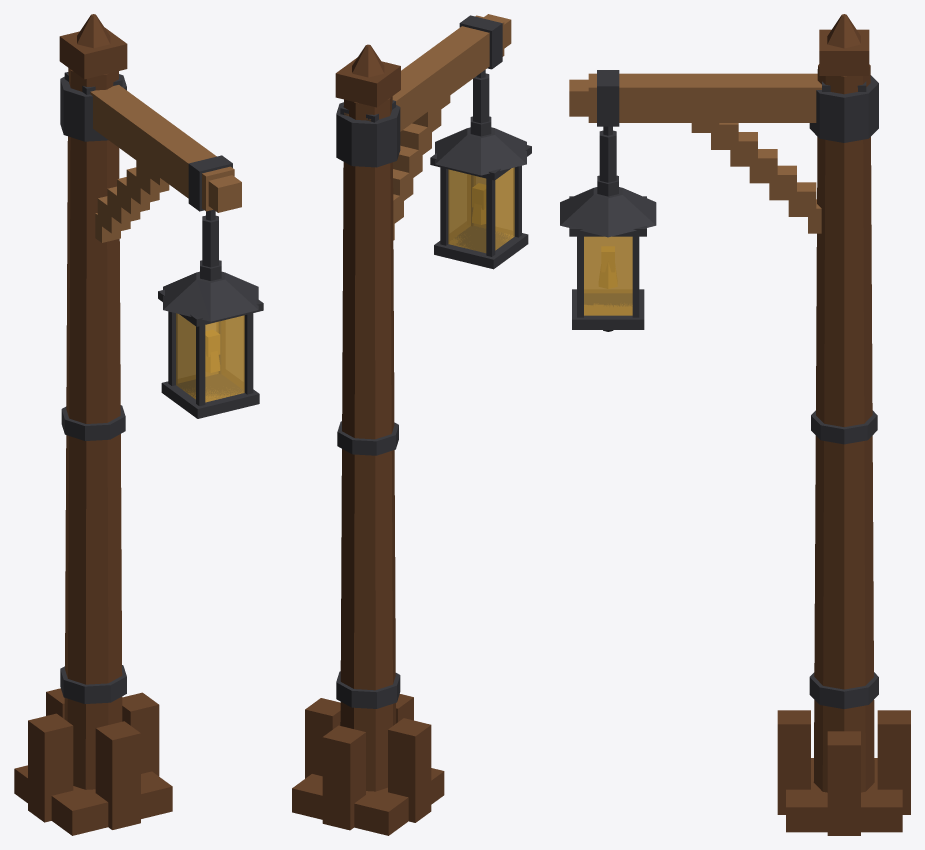
Rendered from 23_Wooden_Lantern_Post.obj.
3 renders of one model, left to right at view 1: azimuth 30°, elevation 25°; view 2: azimuth 150°, elevation 25°; view 3: azimuth 270°, elevation 25°, orthographic. The views are drawn at different scales.
Parts seen in each view (by area): view 1: 23_Wooden_Lantern_Post; view 2: 23_Wooden_Lantern_Post; view 3: 23_Wooden_Lantern_Post.
Boxes of the visible parts, x1,y1,x2,y2 form: 23_Wooden_Lantern_Post: (14,14,263,835); 23_Wooden_Lantern_Post: (292,14,531,835); 23_Wooden_Lantern_Post: (560,14,910,835).
Bounding box in the file's own units: 0.48 × 3.15 × 1.26.
